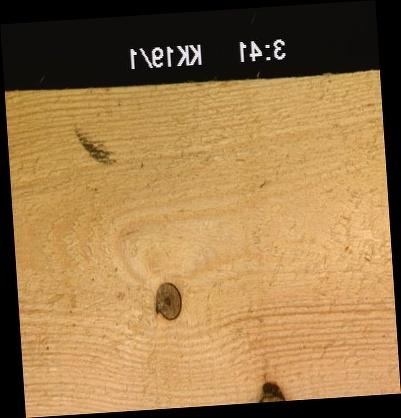dry_knot: (153, 281, 182, 322)
edge_knot: (256, 378, 286, 401)
